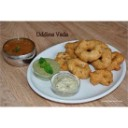vada: (76, 37, 102, 60), (91, 45, 113, 69), (66, 57, 90, 78), (88, 68, 114, 84), (54, 50, 72, 70), (110, 49, 124, 70)
